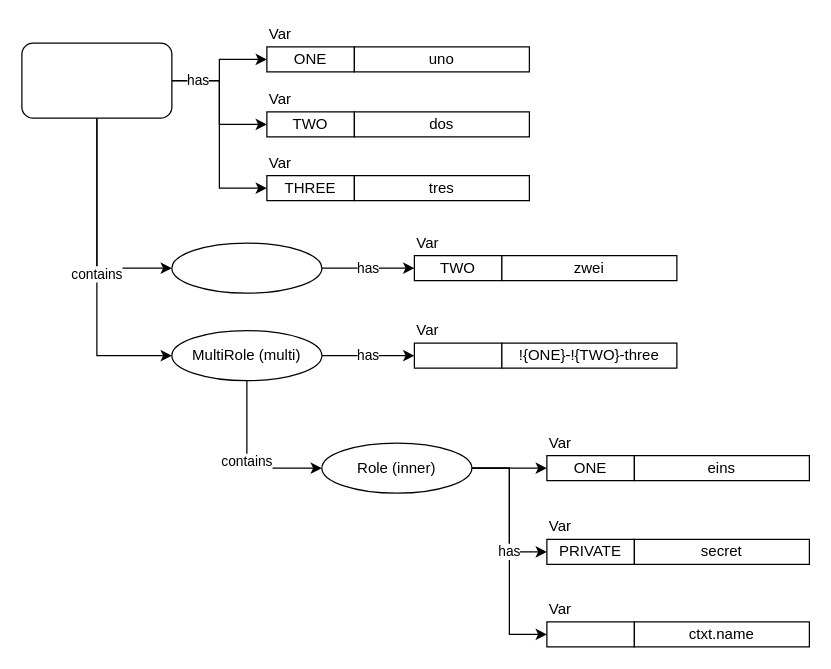
The diagram is 831 pixels wide and 669 high, and some of its shapes have lost their labels. The shapes that lost their labels are listed below. From the top down, each one's centre as x and y in pixels, then its label:
At point (96, 80): "Namespace model".
At point (246, 267): "Role (top)".
At point (457, 355): "GROUP".
At point (590, 634): "NAME".
